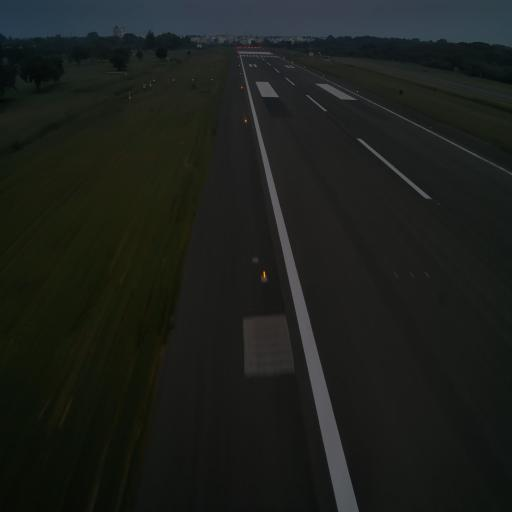off: (394, 268, 400, 282), (424, 268, 431, 280), (409, 270, 415, 282), (436, 198, 442, 208)
on: (259, 268, 267, 282)
